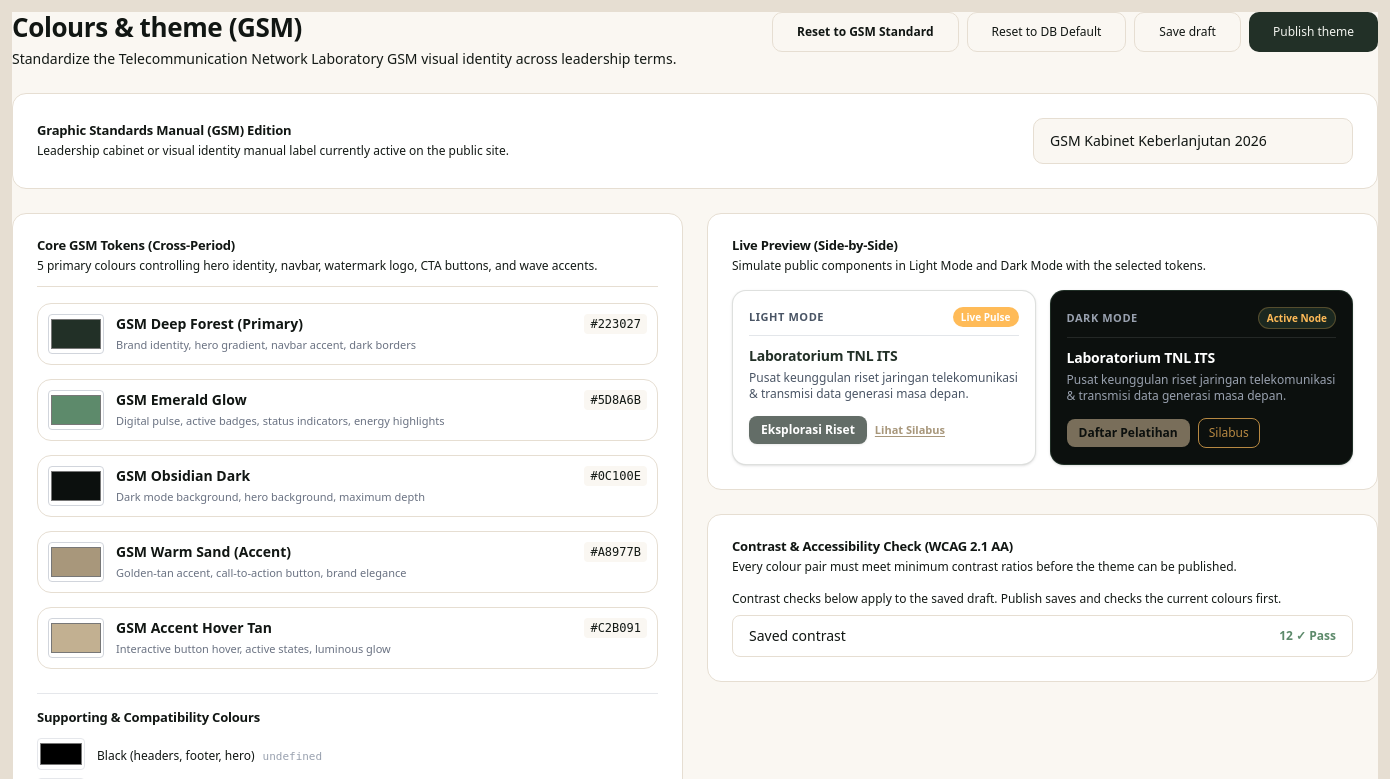
theme and CMS libraries › checks the current local theme after a pause and stops presenting saved checks as current
Check: the text "Saved contrast" is shown, box x1=749 y1=626 x2=846 y2=646
Type "#ffffff" into the colour field with test id "theme-gsm-primary_color" at (76, 334), box x1=48 y1=314 x2=104 y2=354
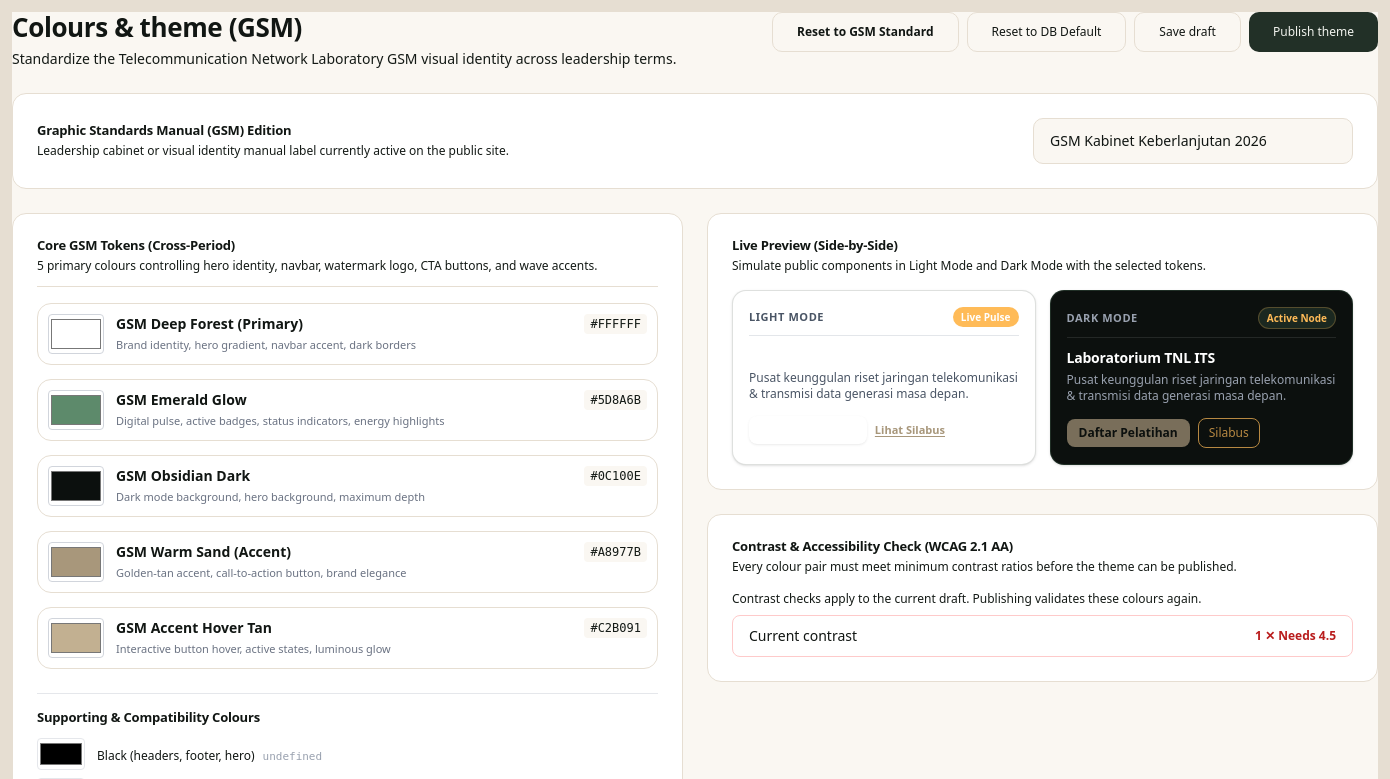
Check: the text "Saved contrast" is gone
Check: the text "Current contrast" is shown, box x1=749 y1=626 x2=857 y2=646
Check: the list item with test id "theme-contrast-fail" shows "1", box x1=1255 y1=627 x2=1262 y2=644
